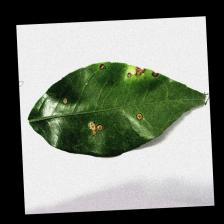canker: (70, 63, 187, 104)
